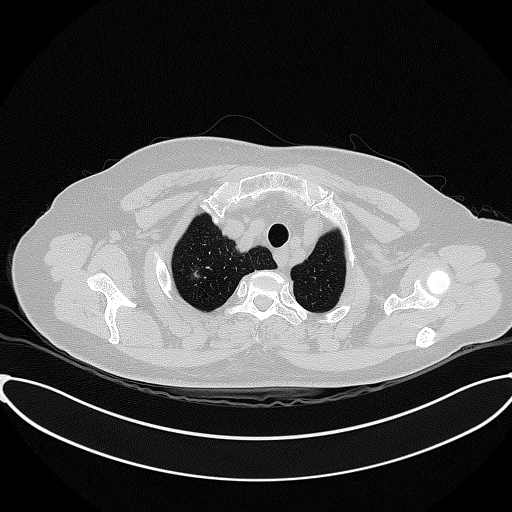nodule: (192, 270, 200, 278)
